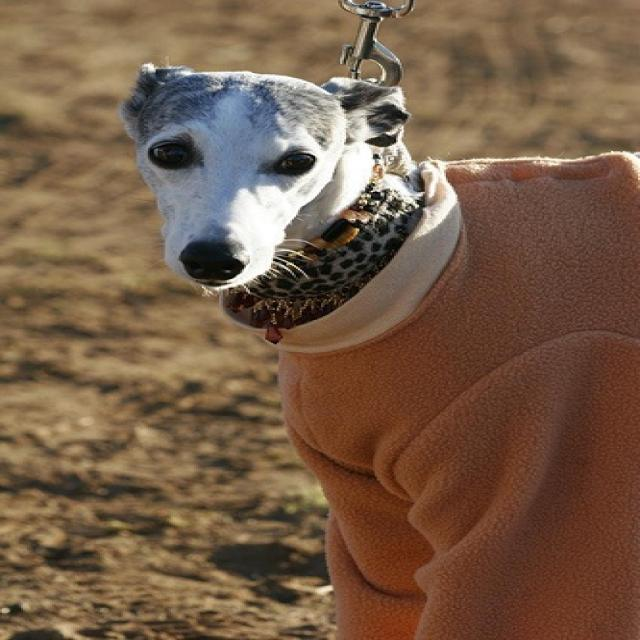dog: (121, 60, 638, 639)
